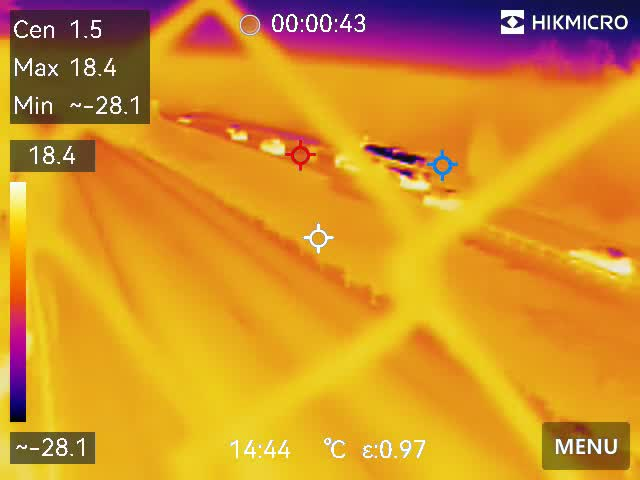heavyTruck: (333, 137, 438, 196)
vehicle: (570, 243, 633, 277), (258, 137, 289, 162), (232, 127, 257, 143), (174, 112, 196, 124)
